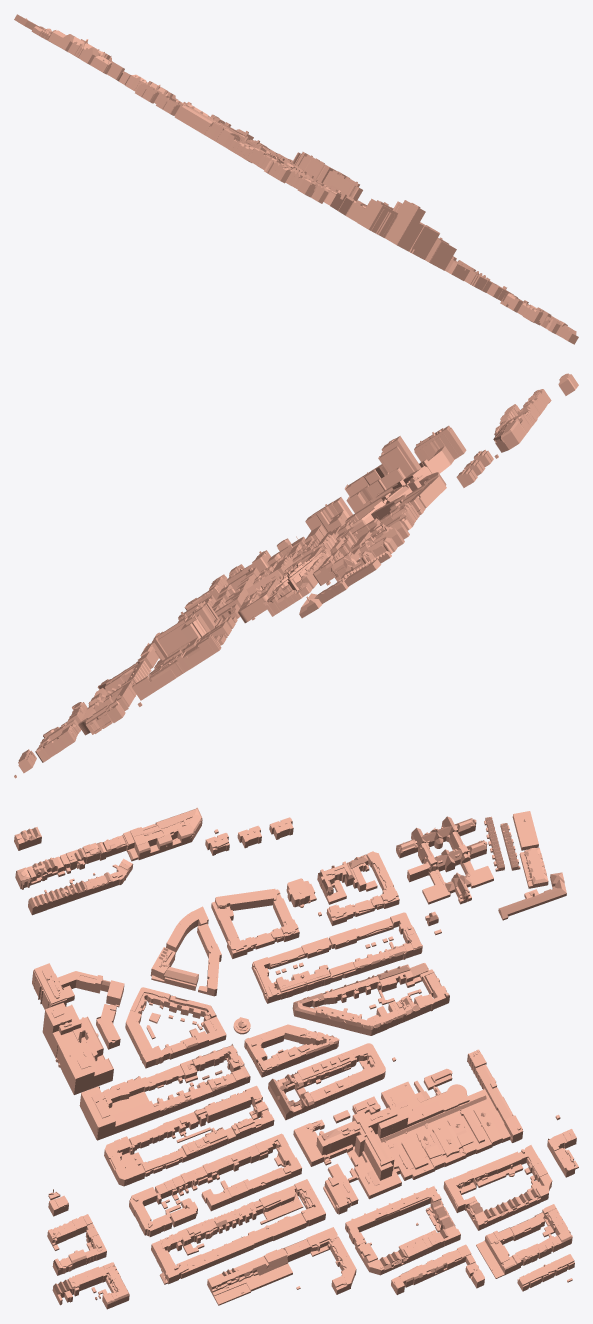
3 views of the same model, one above another, from view 1: azimuth 30°, elevation 25°; view 2: azimuth 150°, elevation 25°; view 3: azimuth 270°, elevation 25° (orthographic). The views are drawn at different scales.
Bounding box in the file's own units: 1.75e+07 × 1.3e+07 × 2.09e+07.
